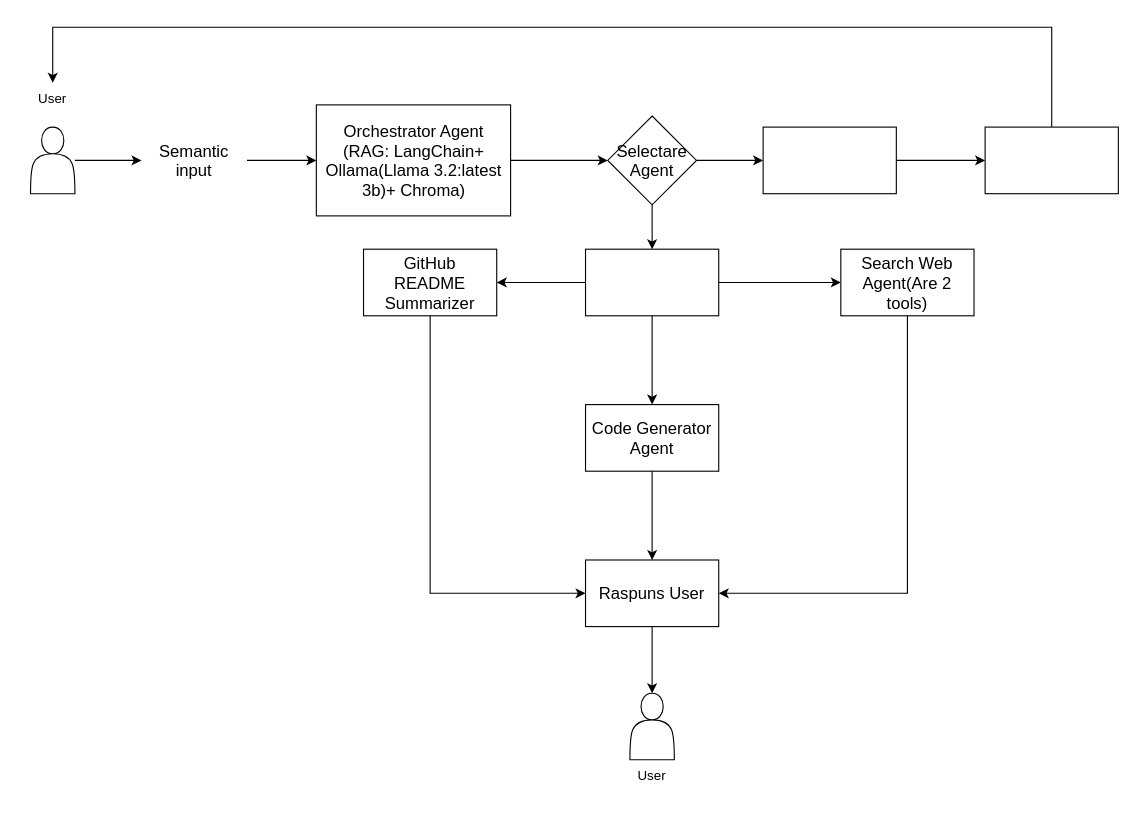
Some shapes in this 1138 by 813 pixel diagram are drawn without their labels. The centre of each missing label's shape, as x and y in pixels:
"Agent Router" goes at (651,282).
"Cere Clarificari" goes at (1051,160).
"Raspuns Ambiguu" goes at (829,160).
